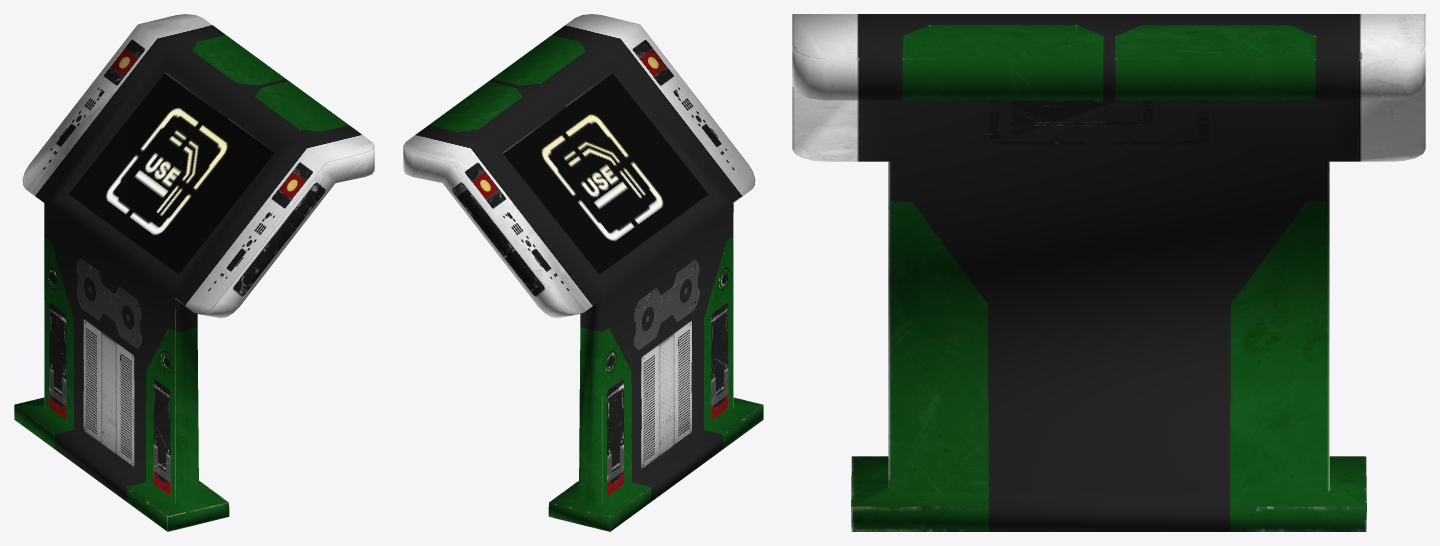
File: bench_cat.glb
3 renders of one model, left to right at view 1: azimuth 30°, elevation 25°; view 2: azimuth 150°, elevation 25°; view 3: azimuth 270°, elevation 25°, orthographic. The views are drawn at different scales.
Visible parts, largest first — view 1: BenchCat_Low; view 2: BenchCat_Low; view 3: BenchCat_Low.
Part boxes in pixels (<box>): BenchCat_Low: <box>14,14,374,531</box>; BenchCat_Low: <box>403,14,763,531</box>; BenchCat_Low: <box>792,14,1425,531</box>.
Bounding box in the file's own units: 3.23 × 5.45 × 5.37.
1 material, 1 textured.
